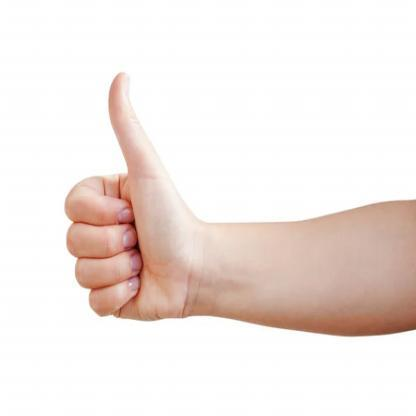thumb_up: (65, 69, 200, 324)
